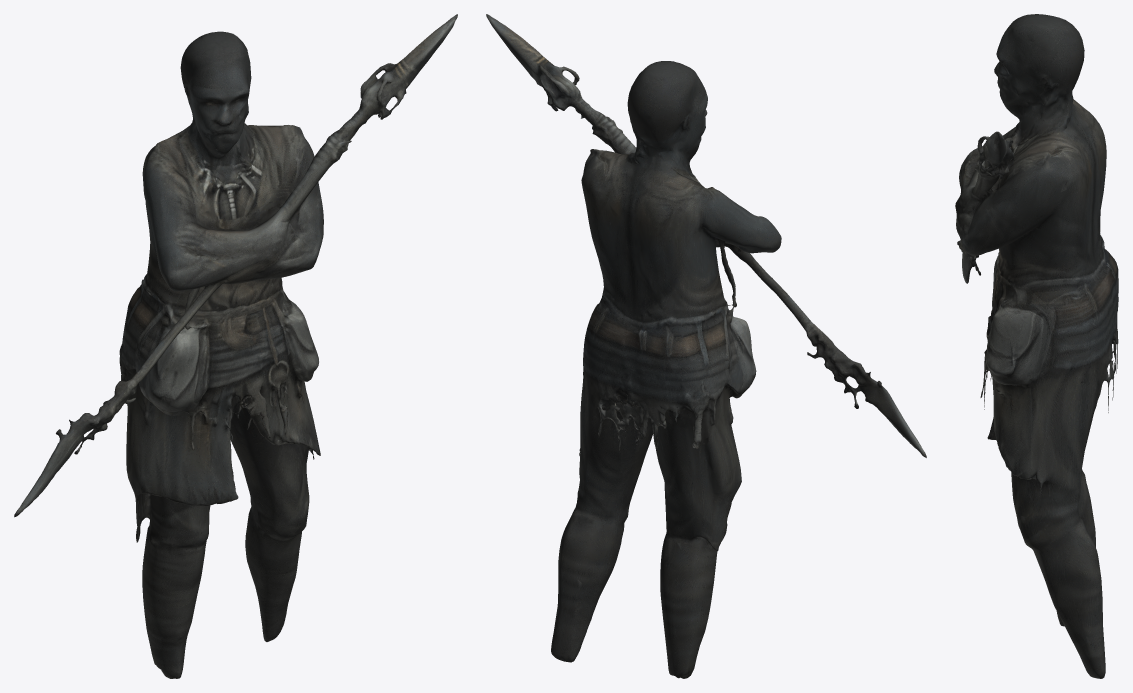
The model's file is varrik_hunter.glb.
3 renders of one model, left to right at view 1: azimuth 30°, elevation 25°; view 2: azimuth 150°, elevation 25°; view 3: azimuth 270°, elevation 25°, orthographic. The views are drawn at different scales.
Bounding box in the file's own units: 1.5 × 2 × 0.4748.
1 material, 1 textured.
